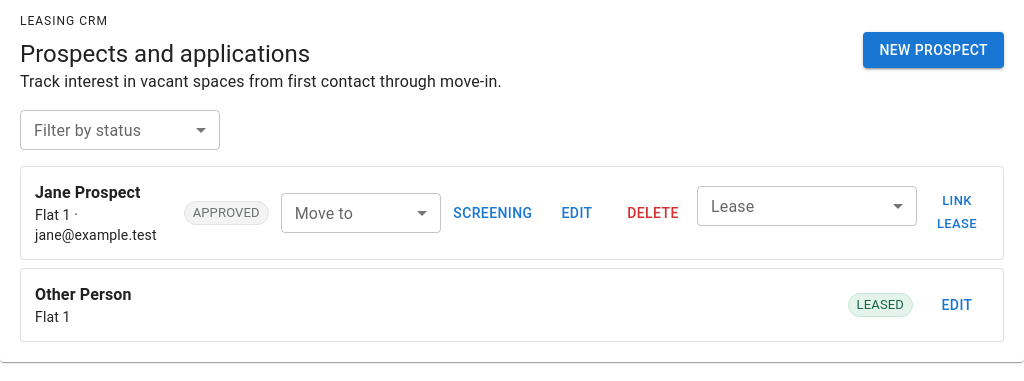
only offers draft or active leases for the prospect's space that are not already linked
Click the 3rd dropdown named "Lease" at (807, 206), box top-left (697, 186), bottom-right (917, 226)
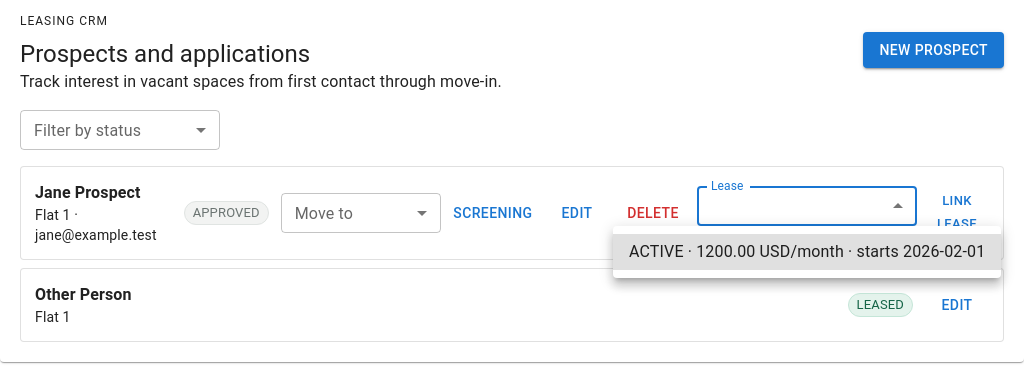
Expected: the number of options is 1, top-left (613, 234), bottom-right (1001, 270)
